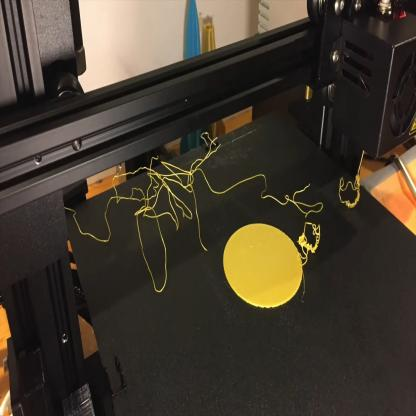fail: (108, 155, 213, 303)
